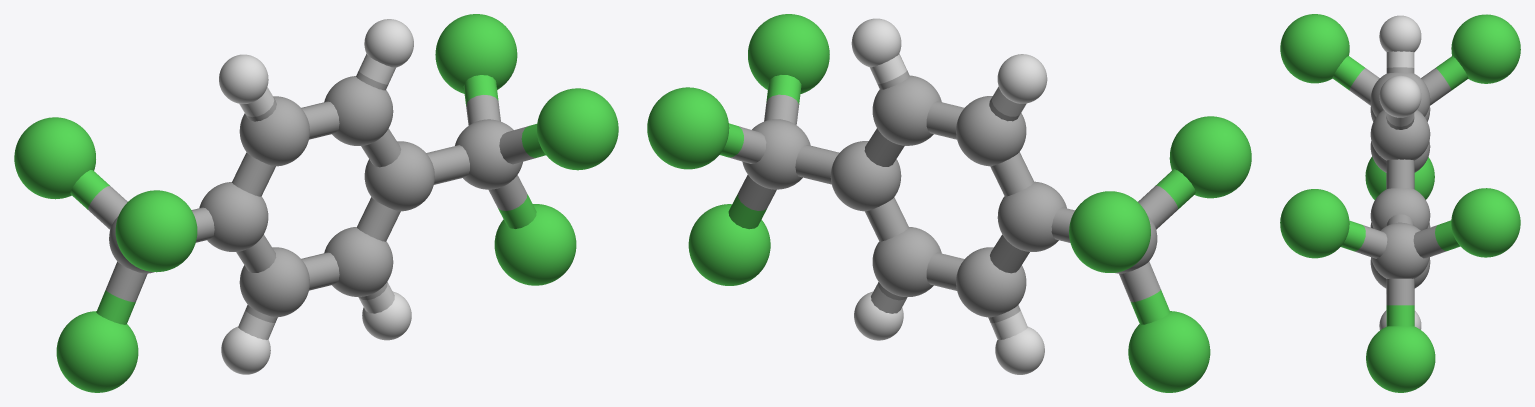
File: pubchem-6233-bas-color-print_NIH3D.glb
3 renders of one model, left to right at view 1: azimuth 30°, elevation 25°; view 2: azimuth 150°, elevation 25°; view 3: azimuth 270°, elevation 25°, orthographic. The views are drawn at different scales.
Parts seen in each view (by area): view 1: atoms, bonds; view 2: atoms, bonds; view 3: atoms, bonds.
Boxes of the visible parts, x1,y1,x2,y2 form: atoms: (14,14,618,392); bonds: (70,54,545,339); atoms: (647,14,1251,392); bonds: (720,53,1195,340); atoms: (1280,14,1520,392); bonds: (1332,51,1468,326).
Size of the model in its own units: 8.53 by 5.06 by 4.12.
